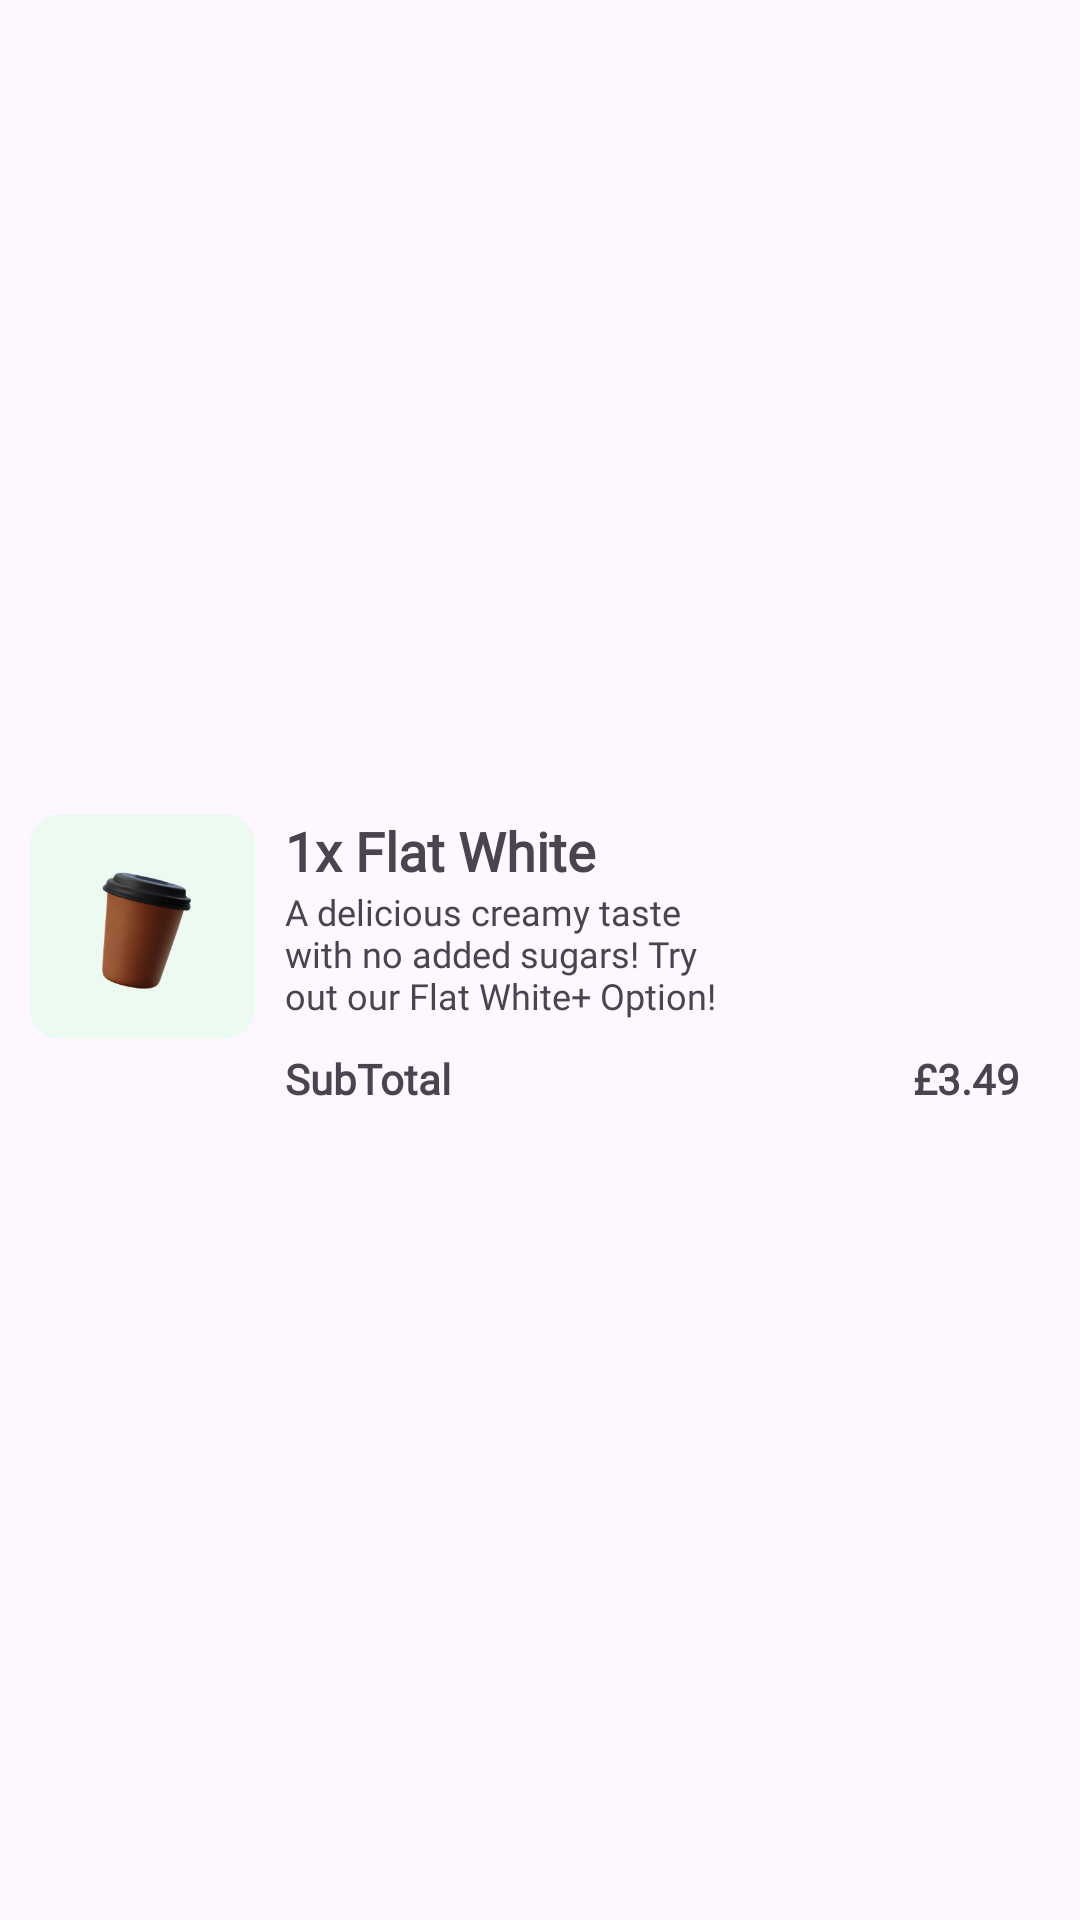

Named icons in this screenshot (1080 × 1920) and their bounding boxes, (x1, y1, x2, y2):
coffeecup: (102, 872, 191, 989)
